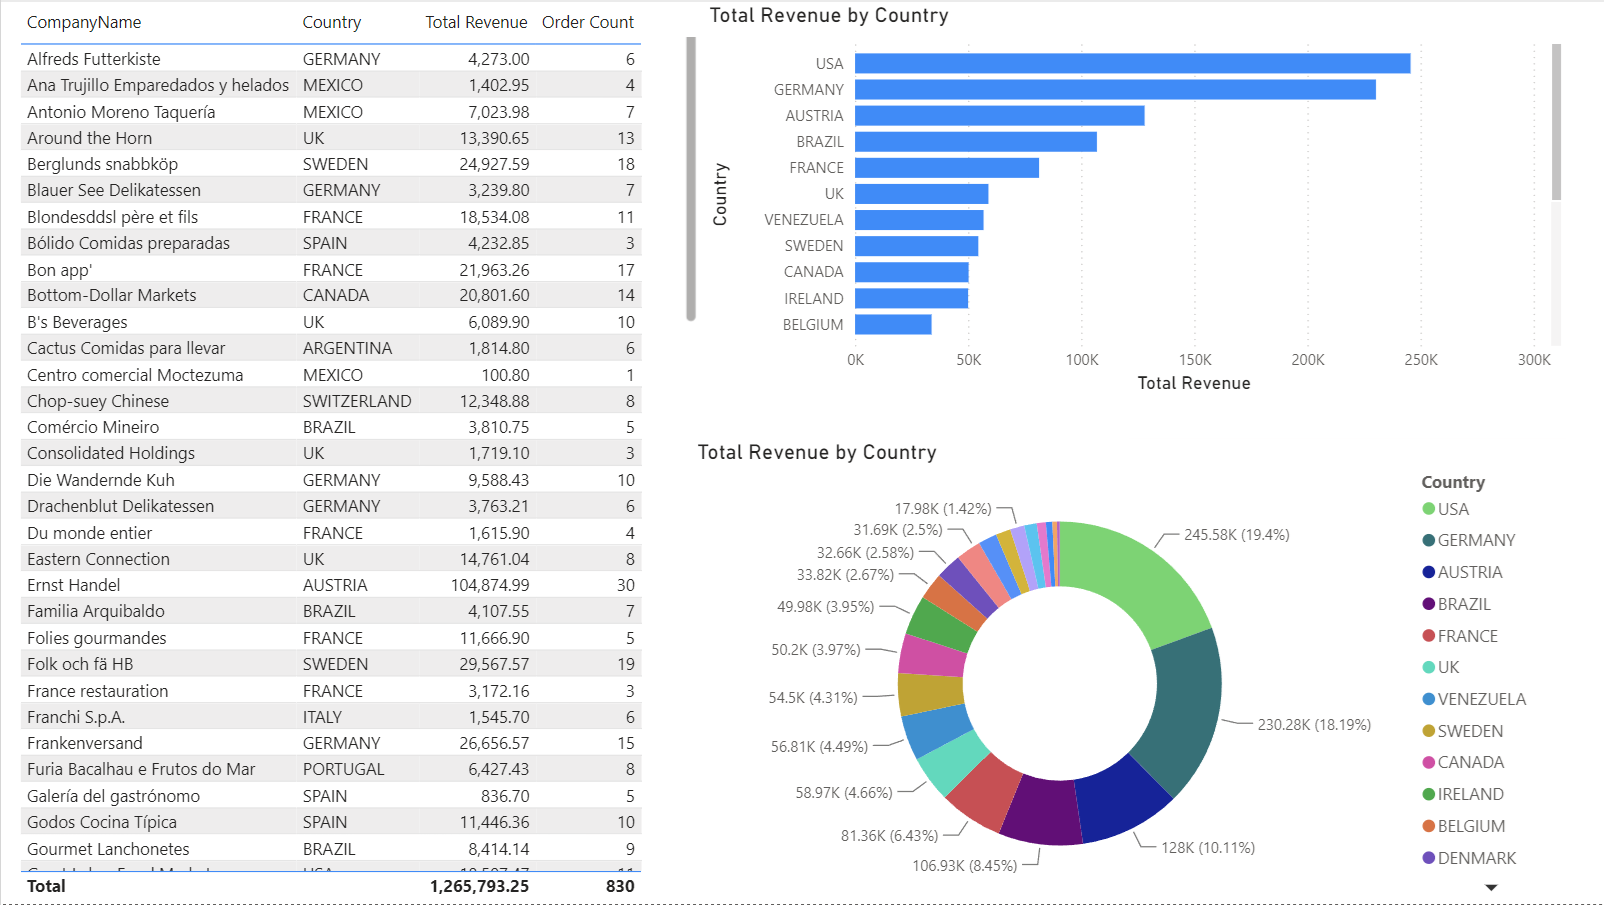

Layout of this report page (visuals, bound fields, positions):
{"tool":"powerbi","page":{"name":"Customer Analysis","canvas":[1280,720],"ordinal":1},"visuals":[{"type":"tableEx","title":"Top Customers by Revenue","fields":{"Values":["Customers.companyName","Customers.country","Customers.city","OrderDetails.Total Revenue","Orders.Total Orders"]},"box":[10.7,24.9,581.9,279.7],"z":0},{"type":"treemap","title":"Revenue by Customer Location","fields":{"Group":["Customers.country"],"Values":["OrderDetails.Total Revenue"]},"box":[640,24.9,581.9,279.7],"z":1000},{"type":"slicer","title":"Filter by Country","fields":{"Values":["Customers.country"]},"box":[10.7,360,582.7,280],"z":1001}]}

Visuals, with their boxes in screenshot pixels (x1, y1, x2, y2), scaled from the page's 1280x720 canvas onto the 1604x905 screenshot:
"Top Customers by Revenue" tableEx: bbox(13, 31, 743, 383)
"Revenue by Customer Location" treemap: bbox(802, 31, 1531, 383)
"Filter by Country" slicer: bbox(13, 452, 744, 804)
